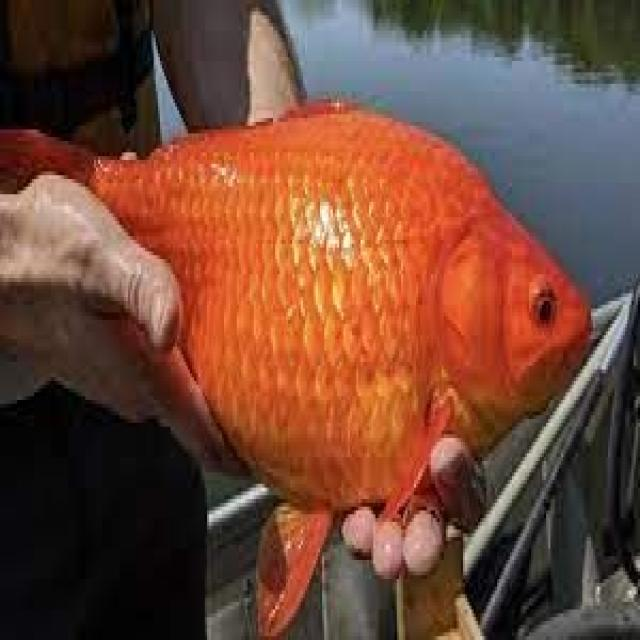Gold-Fish: (21, 87, 600, 587)
